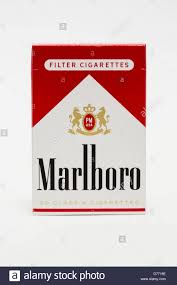marlboro: (33, 47, 145, 216)
